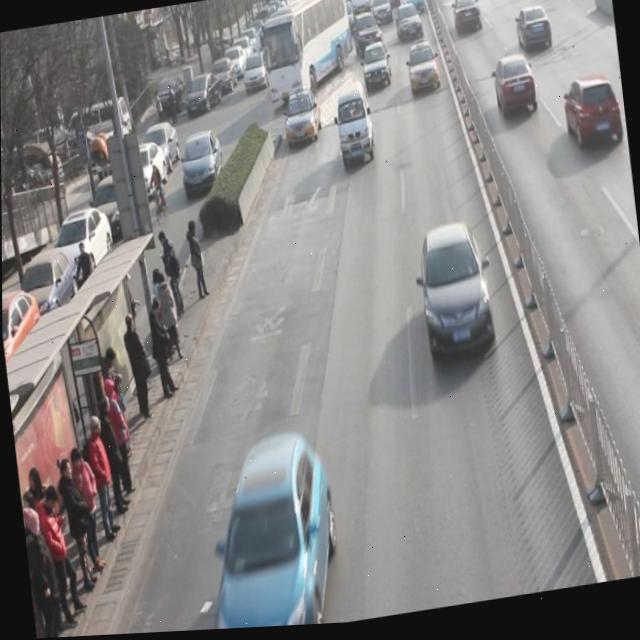car: (196, 426, 347, 632), (414, 224, 497, 365), (562, 76, 627, 161), (491, 56, 538, 123), (283, 92, 324, 148), (405, 44, 442, 101), (515, 7, 553, 62), (359, 44, 393, 96), (351, 13, 384, 64), (394, 3, 425, 49), (452, 0, 483, 43)
truck: (334, 82, 377, 171)
van: (258, 0, 358, 113)
